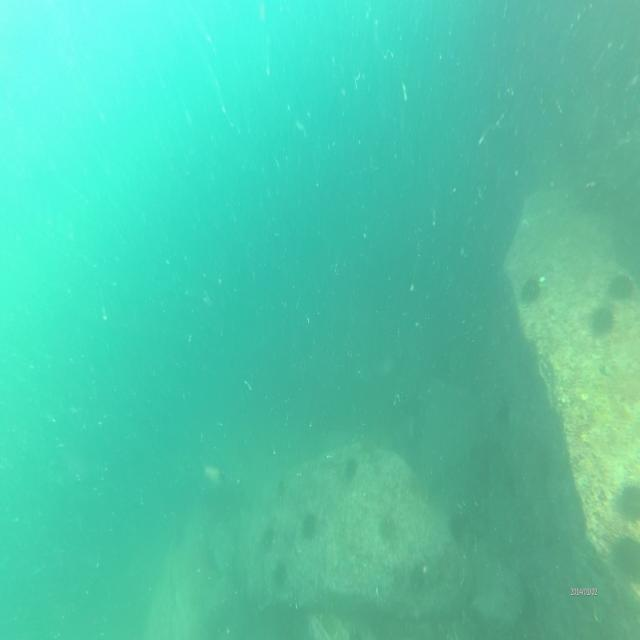echinus: (615, 479, 640, 516), (607, 265, 635, 298), (518, 272, 542, 306), (592, 302, 613, 336), (379, 504, 396, 540), (301, 515, 315, 541), (260, 524, 274, 550), (272, 559, 285, 583), (344, 458, 357, 478)
